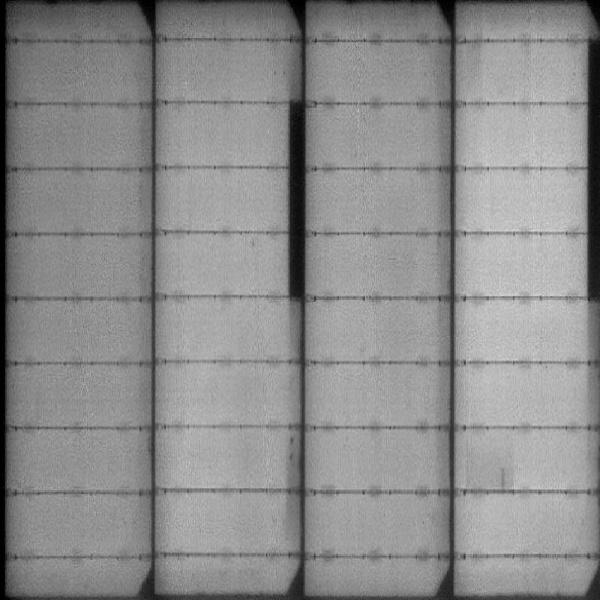black_border: (285, 100, 310, 302), (581, 33, 598, 301)
